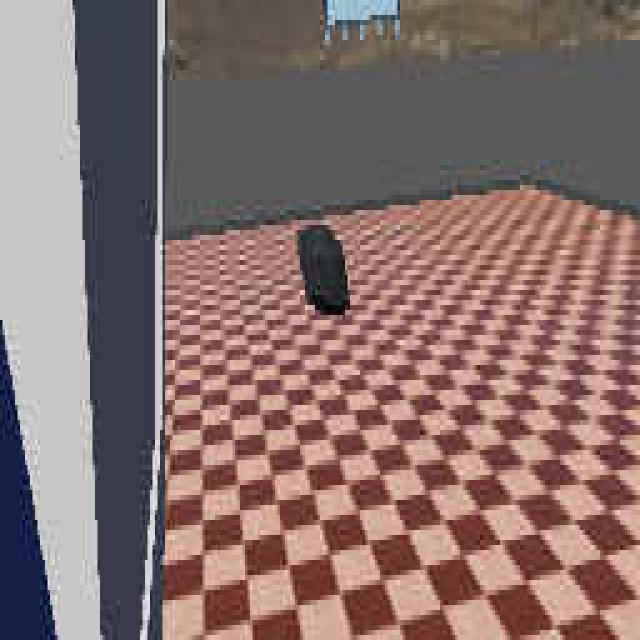rock: (298, 222, 349, 316)
